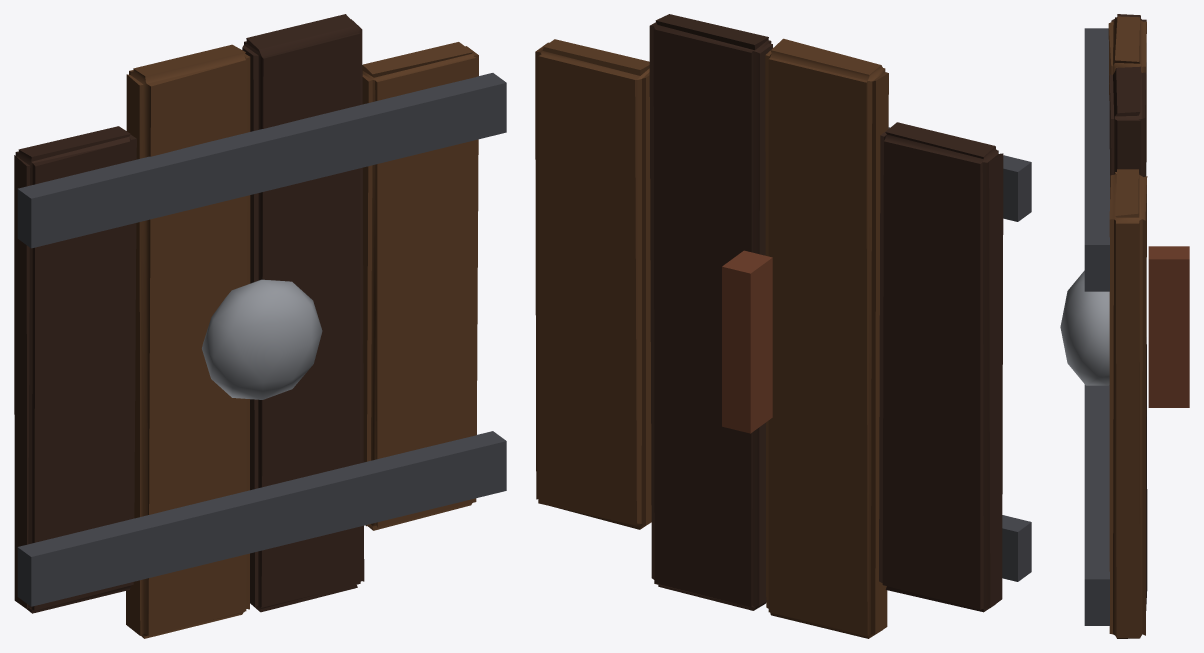
File: arma_escudo_t1_tabuas.glb
The picture shows the model from 3 angles, left to right: view 1: azimuth 30°, elevation 25°; view 2: azimuth 150°, elevation 25°; view 3: azimuth 270°, elevation 25°; orthographic projection. The views are drawn at different scales.
Parts seen in each view (by area): view 1: arma_escudo_t1_tabuas; view 2: arma_escudo_t1_tabuas; view 3: arma_escudo_t1_tabuas.
Part boxes in pixels (x1,y1,x2,y2): arma_escudo_t1_tabuas: (14, 14, 506, 638); arma_escudo_t1_tabuas: (535, 14, 1031, 638); arma_escudo_t1_tabuas: (1060, 14, 1189, 638).
Size of the model in its own units: 0.5 by 0.5684 by 0.126.
